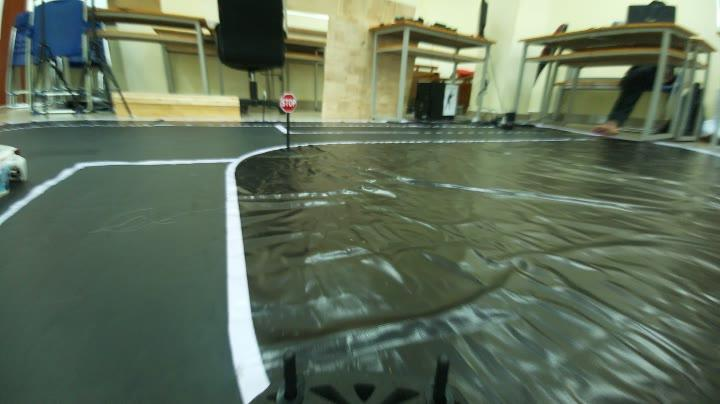stop: (272, 88, 306, 112)
